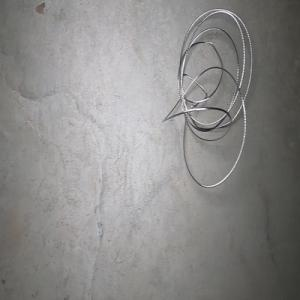Wire: (162, 8, 253, 187)
